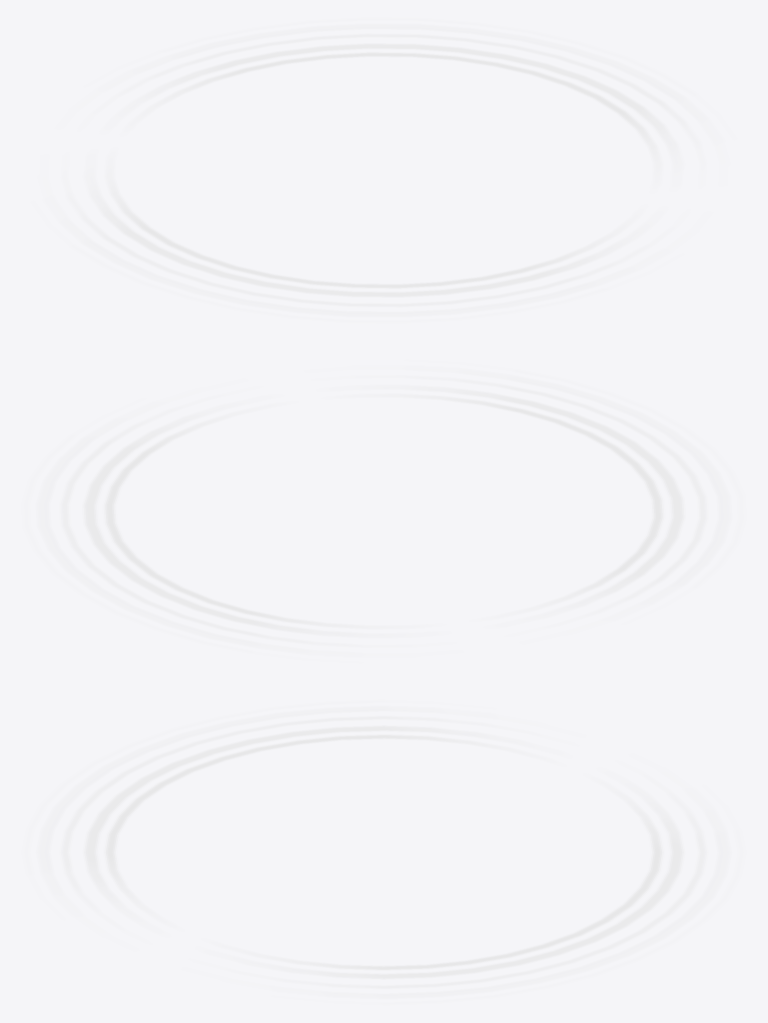
Rendered from glf_mato__glf_matoWAVE_C.glb.
3 views of the same model, one above another, from view 1: azimuth 30°, elevation 25°; view 2: azimuth 150°, elevation 25°; view 3: azimuth 270°, elevation 25° (orthographic).
Parts seen in each view (by area): view 1: polygon0; view 2: polygon0; view 3: polygon0.
Boxes of the visible parts, x1,y1,x2,y2 form: polygon0: [63, 24, 704, 316]; polygon0: [38, 370, 729, 652]; polygon0: [38, 706, 729, 998].
Bounding box in the file's own units: 627 × 0 × 627.
1 material, 1 textured.
